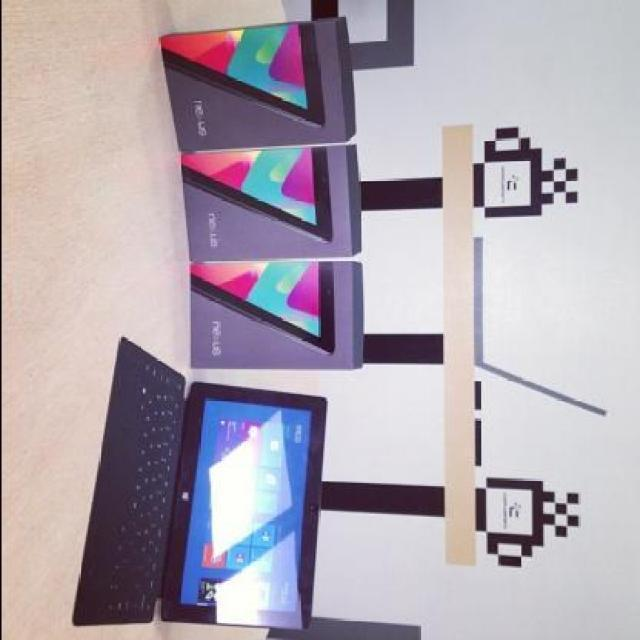phone: (156, 21, 319, 129), (178, 150, 327, 244), (189, 262, 333, 353)
